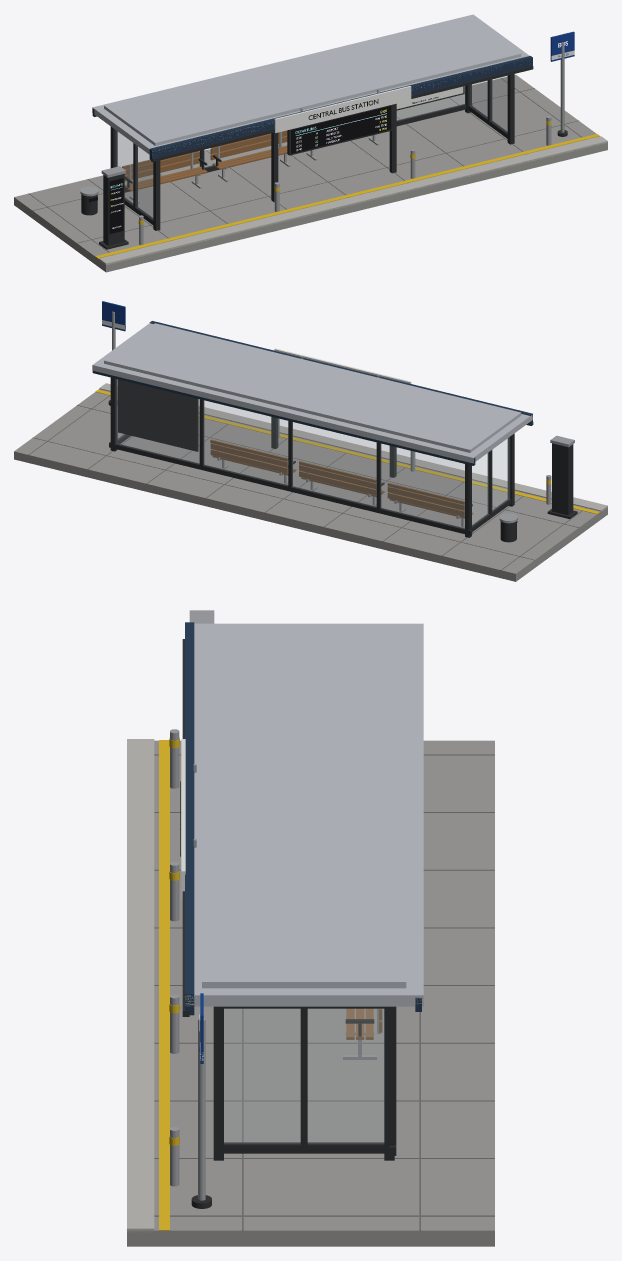
File: bus-station.glb
3 renders of one model, top to bottom at view 1: azimuth 30°, elevation 25°; view 2: azimuth 150°, elevation 25°; view 3: azimuth 270°, elevation 25°, orthographic. The views are drawn at different scales.
Parts seen in each view (by area): view 1: Platform, RoofTop, CurbCap, Fascia, RoofSlab, DepBoard, NamePlate, GlassSide, EdgeLine, GlassSide.001, GutterF, TotemBody (+17 smaller); view 2: Platform, RoofTop, GlassBack.001, GlassBack.003, GlassBack.002, GlassBack, RoofSlab, TimFrame, CurbCap, RailBotB, GlassSide, TotemBody (+16 smaller); view 3: Platform, RoofTop, GlassSide.001, RoofSlab, CurbCap, EdgeLine, Fascia, RailBotS.001, PillarF.003, PillarB.003, SignPole, MullionS.001.
Part boxes in pixels (<box>): Platform: <box>14,74,607,272</box>; RoofTop: <box>104,16,521,145</box>; CurbCap: <box>99,136,607,265</box>; Fascia: <box>149,56,532,160</box>; RoofSlab: <box>92,14,529,154</box>; DepBoard: <box>291,106,391,153</box>; NamePlate: <box>274,86,411,132</box>; GlassSide: <box>115,130,152,218</box>; EdgeLine: <box>95,134,599,258</box>; GlassSide.001: <box>470,76,507,132</box>; GutterF: <box>151,66,533,162</box>; TotemBody: <box>103,174,124,245</box>; Platform: <box>14,389,607,581</box>; RoofTop: <box>104,323,521,452</box>; GlassBack.001: <box>292,422,376,506</box>; GlassBack.003: <box>115,379,199,463</box>; GlassBack.002: <box>204,400,287,485</box>; GlassBack: <box>381,444,464,528</box>; RoofSlab: <box>92,323,532,463</box>; TimFrame: <box>118,379,198,451</box>; CurbCap: <box>99,383,607,511</box>; RailBotB: <box>109,442,472,535</box>; GlassSide: <box>472,437,509,525</box>; TotemBody: <box>552,443,573,515</box>; Platform: <box>127,740,494,1246</box>; RoofTop: <box>202,624,406,988</box>; GlassSide.001: <box>224,1009,383,1143</box>; RoofSlab: <box>185,623,423,1006</box>; CurbCap: <box>127,739,154,1232</box>; EdgeLine: <box>159,740,169,1230</box>; Fascia: <box>185,622,194,1015</box>; RailBotS.001: <box>224,1142,384,1153</box>; PillarF.003: <box>213,1006,223,1160</box>; PillarB.003: <box>384,1006,394,1160</box>; SignPole: <box>198,1018,205,1200</box>; MullionS.001: <box>300,1007,307,1145</box>.
Size of the model in its own units: 17 by 3.5 by 5.4.
